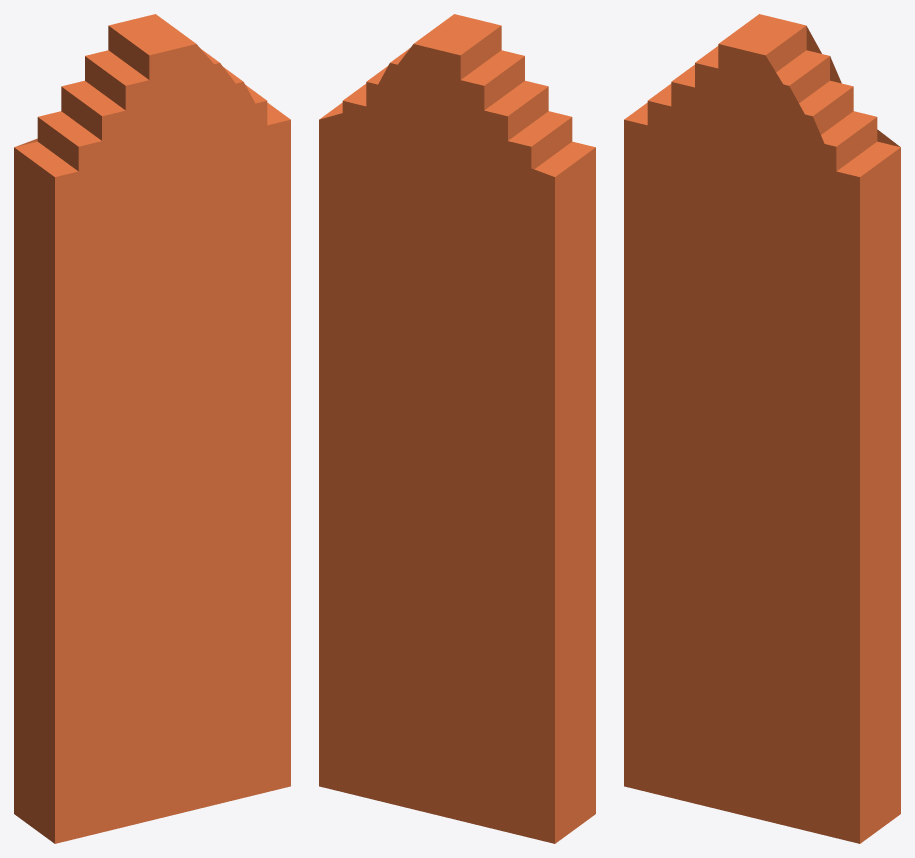
Rendered from fence1.fbx.
The picture shows the model from 3 angles, left to right: view 1: azimuth 30°, elevation 25°; view 2: azimuth 150°, elevation 25°; view 3: azimuth 330°, elevation 25°; orthographic projection.
Parts seen in each view (by area): view 1: fence; view 2: fence; view 3: fence.
Part boxes in pixels (left/top/right/bottom): fence: left=14, top=14, right=290, bottom=843; fence: left=319, top=14, right=595, bottom=843; fence: left=624, top=14, right=900, bottom=843.
Size of the model in its own units: 39.45 by 122 by 11.83.
